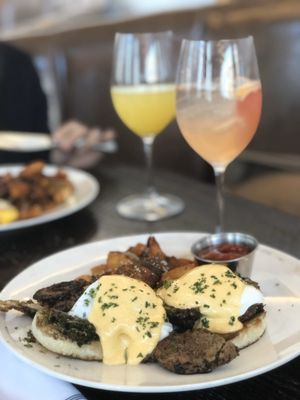curry: (0, 100, 300, 398)
sandwich: (174, 29, 265, 276), (110, 31, 186, 222)
